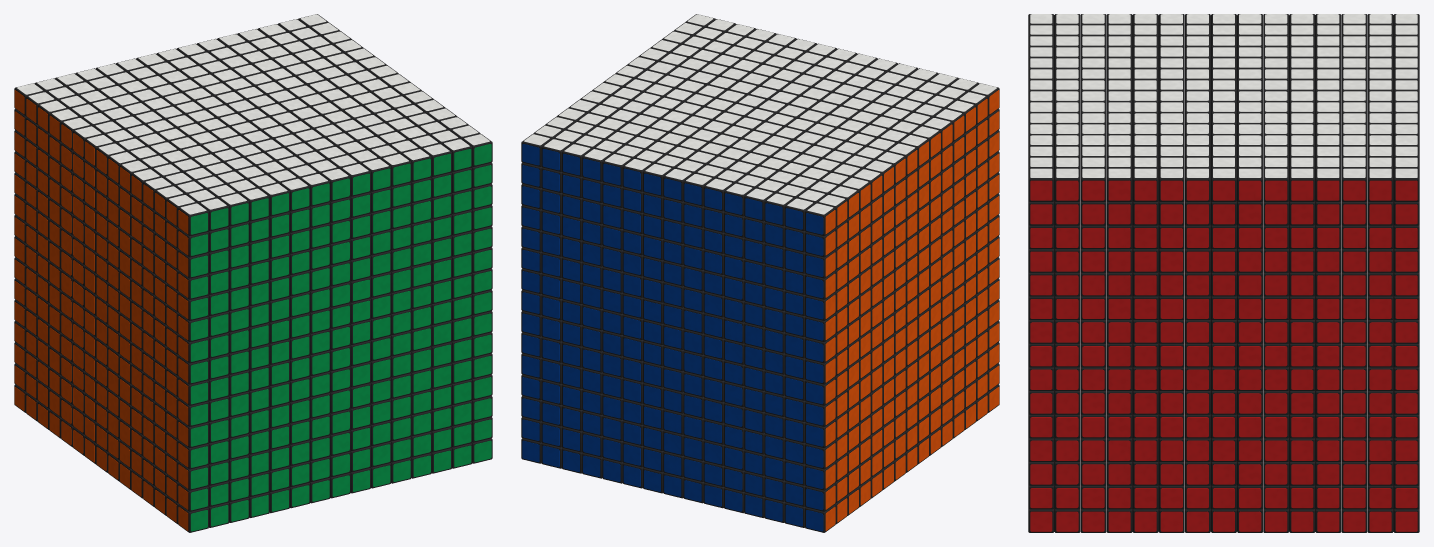
The picture shows the model from 3 angles, left to right: view 1: azimuth 30°, elevation 25°; view 2: azimuth 150°, elevation 25°; view 3: azimuth 270°, elevation 25°; orthographic projection. The views are drawn at different scales.
Visible parts, largest first — view 1: no part large enough to name; view 2: no part large enough to name; view 3: Cubie_14_2_0_R, Cubie_14_2_1_R, Cubie_14_2_2_R, Cubie_14_2_3_R, Cubie_14_2_4_R, Cubie_14_2_10_R, Cubie_14_2_11_R, Cubie_14_2_12_R, Cubie_14_2_13_R, Cubie_14_2_14_R, Cubie_14_5_0_R, Cubie_14_5_1_R (+181 smaller).
Part boxes in pixels (x1,y1,x2,y2): Cubie_14_2_0_R: (1395,464,1417,484); Cubie_14_2_1_R: (1369,464,1391,484); Cubie_14_2_2_R: (1343,464,1365,484); Cubie_14_2_3_R: (1317,464,1339,484); Cubie_14_2_4_R: (1291,464,1313,484); Cubie_14_2_10_R: (1134,464,1156,484); Cubie_14_2_11_R: (1108,464,1130,484); Cubie_14_2_12_R: (1082,464,1104,484); Cubie_14_2_13_R: (1056,464,1078,484); Cubie_14_2_14_R: (1030,464,1052,484); Cubie_14_5_0_R: (1395,393,1417,413); Cubie_14_5_1_R: (1369,393,1391,413).
Bounding box in the file's own units: 15.01 × 15.01 × 15.01.
Materials: 7 (6 with a texture image).
